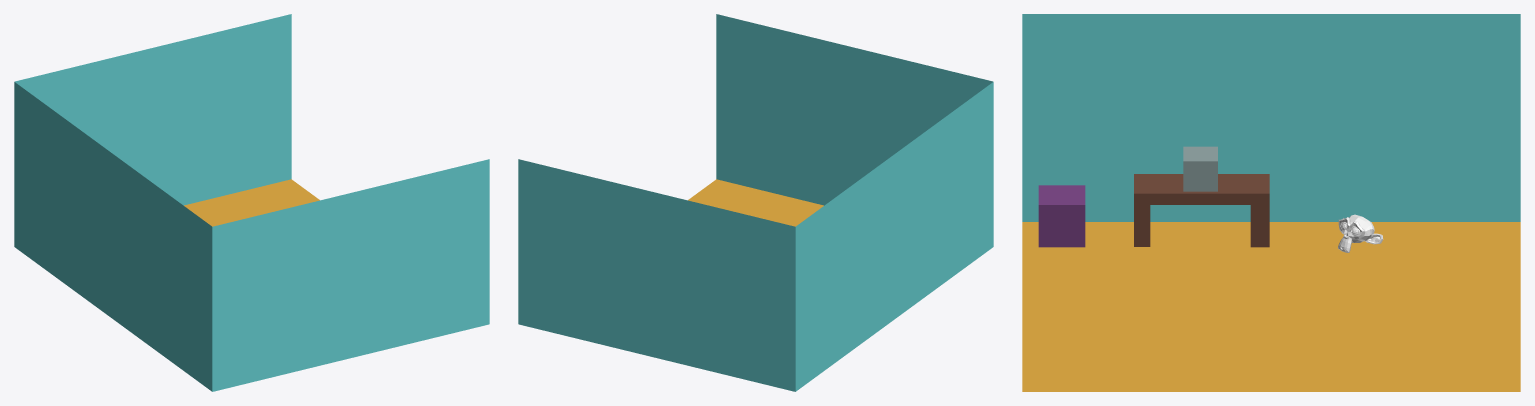
3 views of the same model, side by side, from view 1: azimuth 30°, elevation 25°; view 2: azimuth 150°, elevation 25°; view 3: azimuth 270°, elevation 25° (orthographic). The views are drawn at different scales.
Visible parts, largest first — view 1: Cube, Cube_1; view 2: Cube, Cube_1; view 3: Cube, Cube_1, desk, box, computer_, Suzanne.
Boxes of the visible parts, x1=… form: Cube: x1=14, y1=14, x2=489, y2=391; Cube_1: x1=184, y1=179, x2=319, y2=226; Cube: x1=518, y1=14, x2=993, y2=391; Cube_1: x1=688, y1=179, x2=823, y2=226; Cube: x1=1022, y1=14, x2=1520, y2=221; Cube_1: x1=1022, y1=222, x2=1520, y2=391; desk: x1=1134, y1=174, x2=1269, y2=247; box: x1=1038, y1=185, x2=1085, y2=247; computer_: x1=1183, y1=146, x2=1217, y2=191; Suzanne: x1=1338, y1=214, x2=1383, y2=252.
Size of the model in its own units: 6.78 by 3.87 by 8.39.
